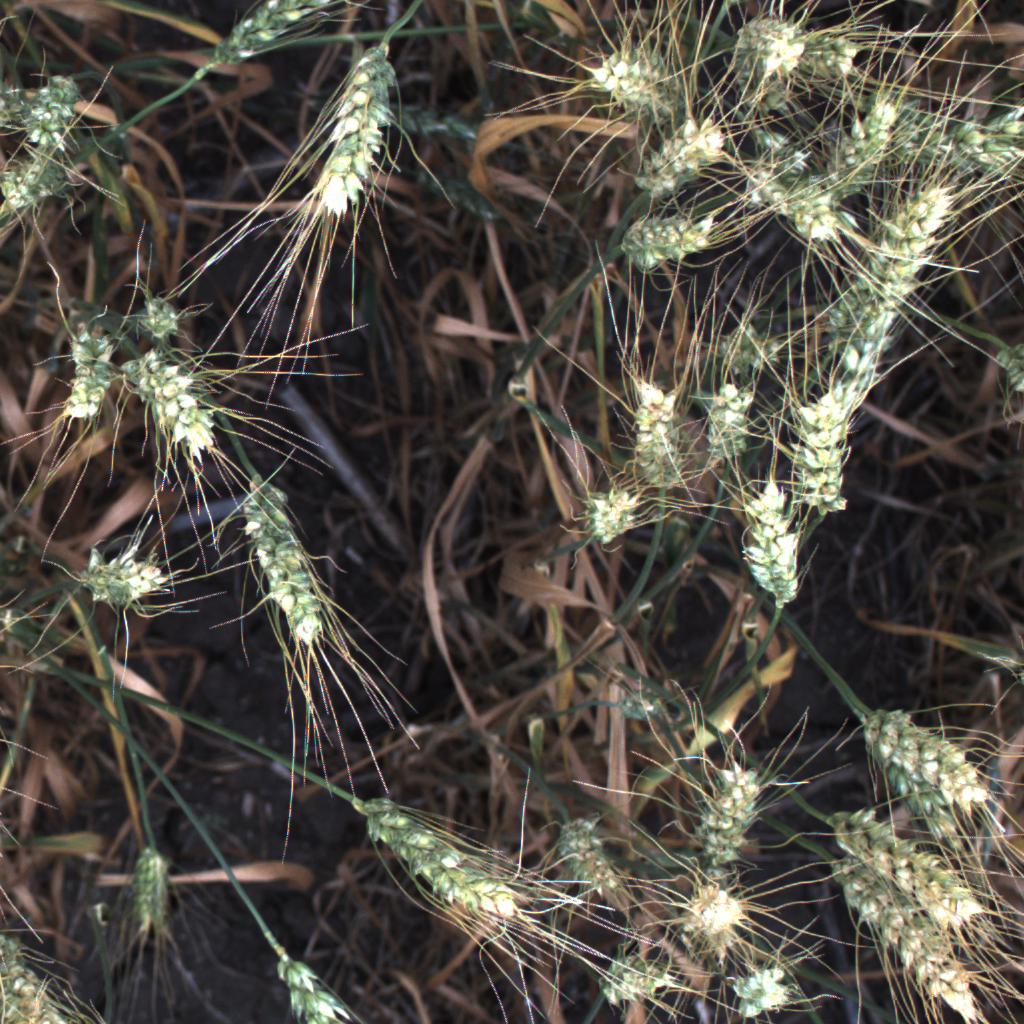0-0: (821, 852, 986, 1024), (350, 791, 536, 927), (817, 800, 992, 944), (236, 461, 346, 671), (845, 176, 957, 368), (306, 30, 409, 237), (851, 706, 997, 820), (858, 721, 968, 857), (572, 26, 702, 140), (118, 344, 227, 469), (609, 104, 739, 207), (820, 196, 902, 358), (732, 471, 816, 625), (602, 365, 689, 500), (64, 522, 179, 624), (789, 385, 869, 522), (47, 309, 123, 446), (687, 756, 774, 872), (202, 0, 342, 72), (897, 102, 1024, 177), (550, 807, 634, 910), (839, 83, 913, 191), (674, 873, 763, 961), (0, 929, 79, 1024), (610, 213, 727, 276), (266, 948, 355, 1024), (590, 944, 681, 1017), (566, 475, 647, 556), (729, 11, 816, 81), (118, 840, 178, 939), (785, 169, 862, 246), (719, 961, 813, 1023), (28, 65, 90, 159), (124, 278, 200, 352), (700, 370, 754, 466), (802, 20, 880, 85), (704, 316, 784, 377), (0, 145, 63, 221), (735, 158, 790, 223), (983, 337, 1024, 408), (0, 75, 47, 136)
